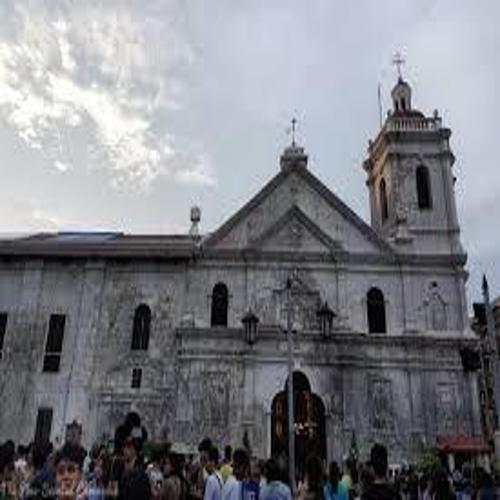Sto. Nino Basilica Church: (182, 38, 488, 487)
